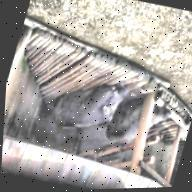boar: (40, 53, 142, 147), (107, 75, 191, 158)
